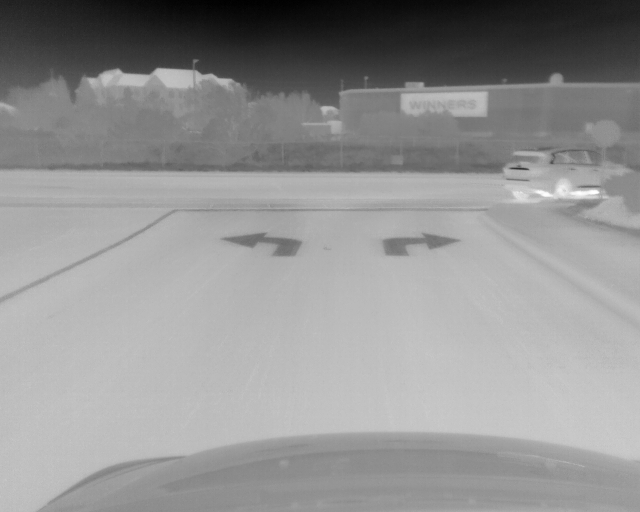car: (501, 147, 636, 202)
